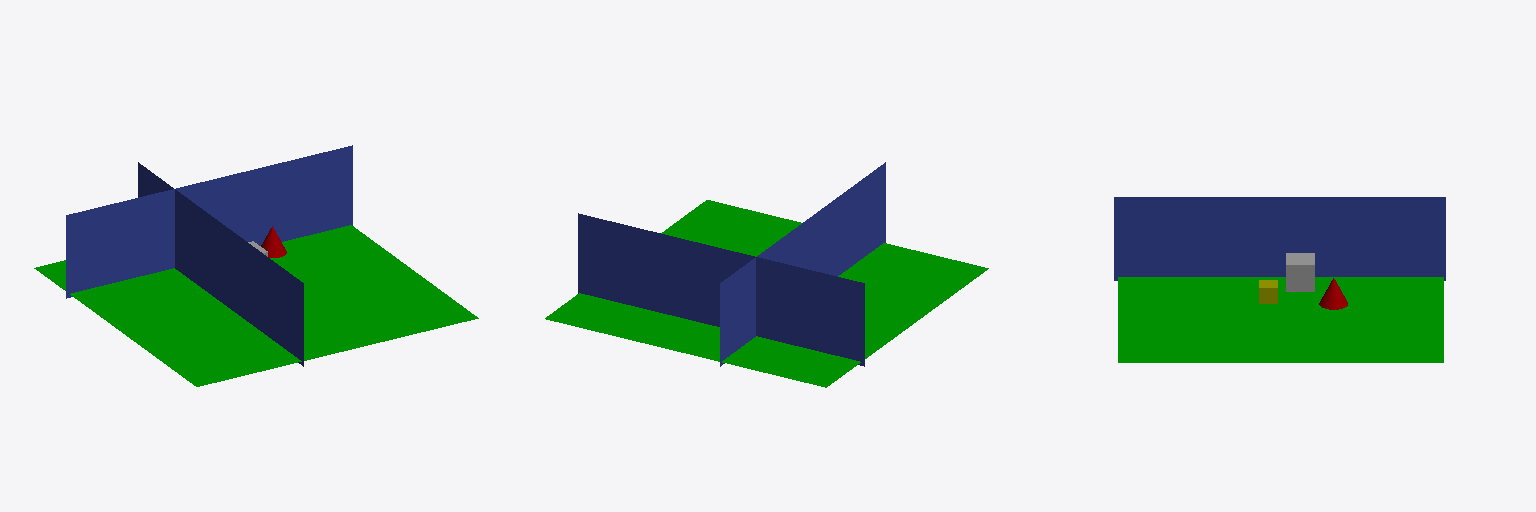
File: mirror2.obj
3 renders of one model, left to right at view 1: azimuth 30°, elevation 25°; view 2: azimuth 150°, elevation 25°; view 3: azimuth 270°, elevation 25°, orthographic.
Parts seen in each view (by area): view 1: Plane.001, Plane.002, Plane.003; view 2: Plane.001, Plane.002, Plane.003; view 3: Plane.001, Plane.003, Cube_Cube.001, Cone.
Boxes of the visible parts, x1=… form: Plane.001: x1=34, y1=225, x2=478, y2=386; Plane.002: x1=66, y1=145, x2=352, y2=298; Plane.003: x1=138, y1=162, x2=303, y2=366; Plane.001: x1=545, y1=200, x2=988, y2=387; Plane.002: x1=578, y1=213, x2=864, y2=366; Plane.003: x1=720, y1=162, x2=885, y2=366; Plane.001: x1=1118, y1=277, x2=1443, y2=362; Plane.003: x1=1114, y1=197, x2=1445, y2=280; Cube_Cube.001: x1=1286, y1=253, x2=1314, y2=291; Cone: x1=1319, y1=278, x2=1347, y2=309.
Size of the model in its own units: 7.2 by 2 by 7.2.